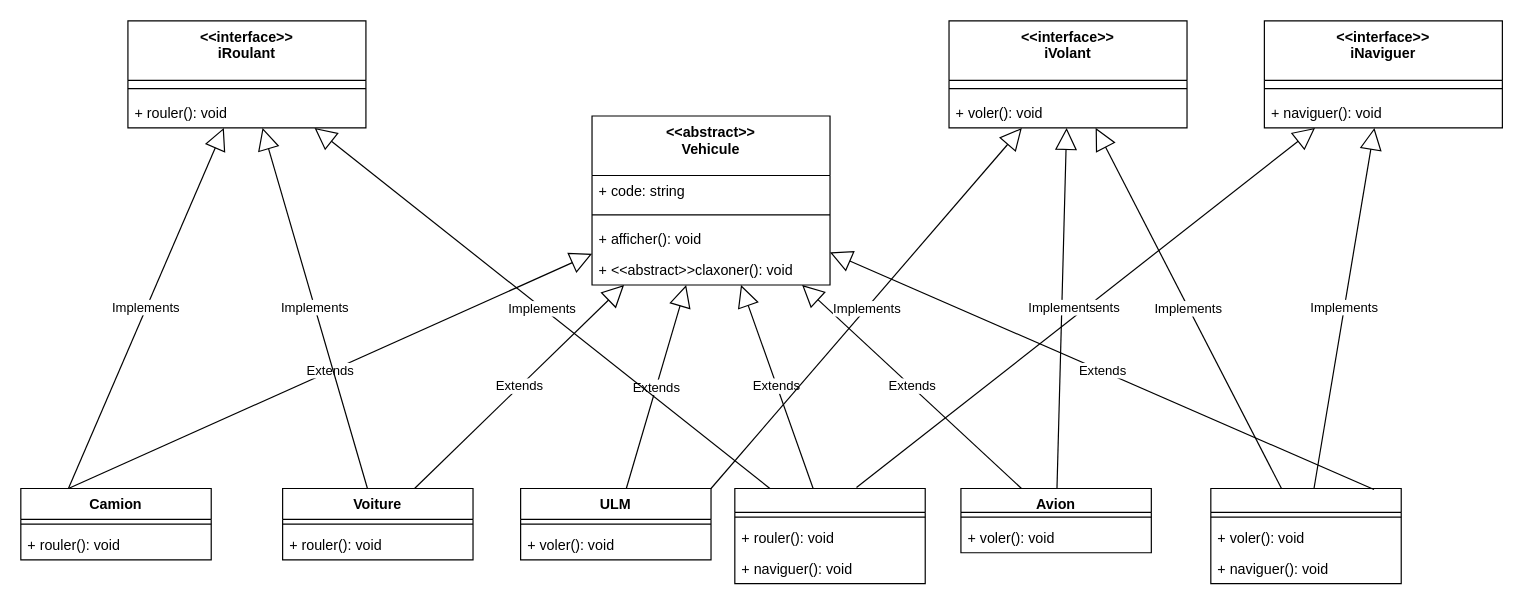
Some shapes in this 1523 by 608 pixel diagram are drawn without their labels. The box of each missing label's shape, as (x1, y1, x2, y2) in pixels:
Amphibie: (734, 487, 925, 584)
Hovercraft: (1210, 487, 1401, 584)
